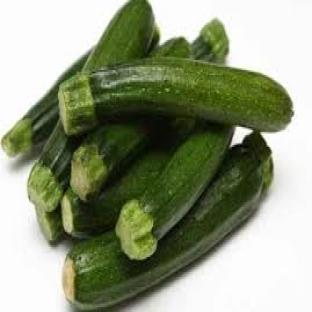Zucchini: (63, 134, 272, 310), (60, 59, 293, 133), (115, 124, 233, 260), (62, 119, 194, 238), (2, 52, 90, 156), (71, 121, 165, 201), (28, 122, 81, 211), (193, 19, 228, 63), (35, 207, 64, 243)
